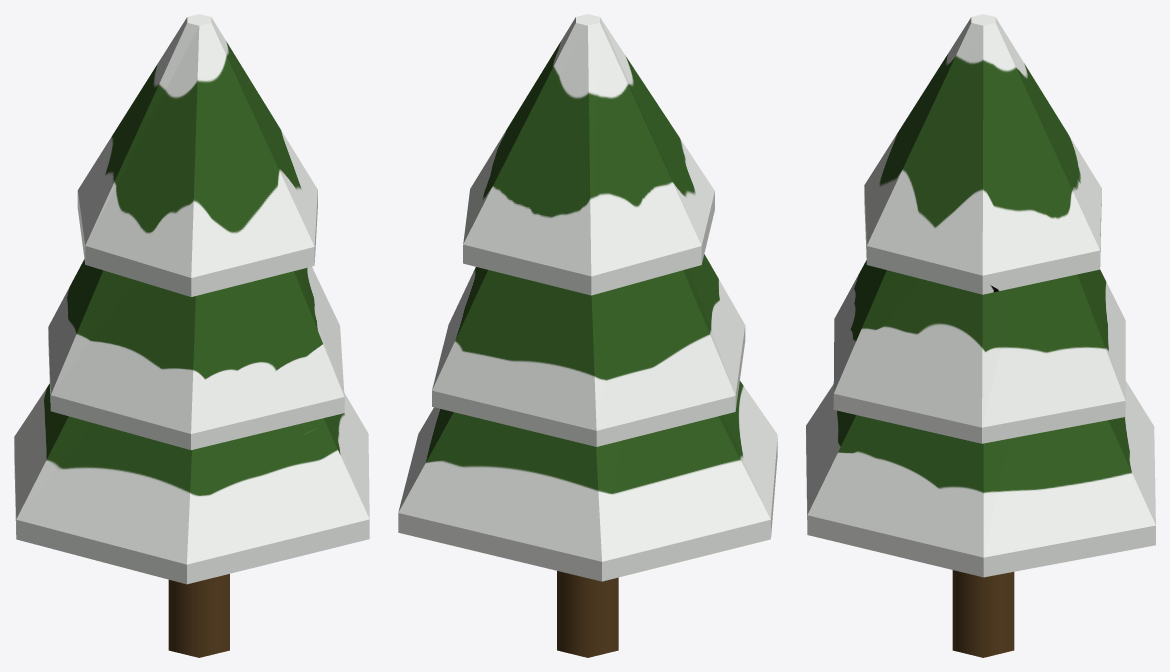
File: treeT.FBX
3 views of the same model, side by side, from view 1: azimuth 30°, elevation 25°; view 2: azimuth 150°, elevation 25°; view 3: azimuth 270°, elevation 25° (orthographic).
Visible parts, largest first — view 1: Cylinder001; view 2: Cylinder001; view 3: Cylinder001.
Boxes of the visible parts, left/top/right/bottom form: Cylinder001: left=14, top=14, right=369, bottom=657; Cylinder001: left=398, top=14, right=777, bottom=657; Cylinder001: left=806, top=14, right=1155, bottom=657.
Size of the model in its own units: 0.9508 by 1.61 by 0.8176.
1 material, 1 textured.
